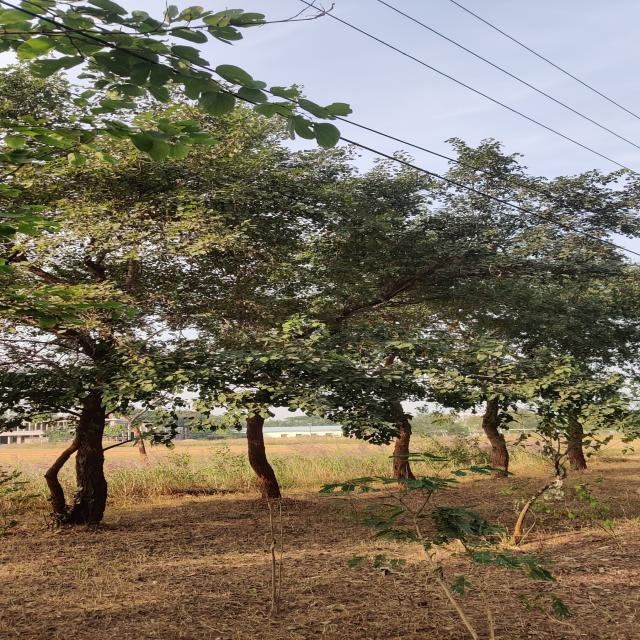Devakanchan tree: (102, 111, 622, 462)
